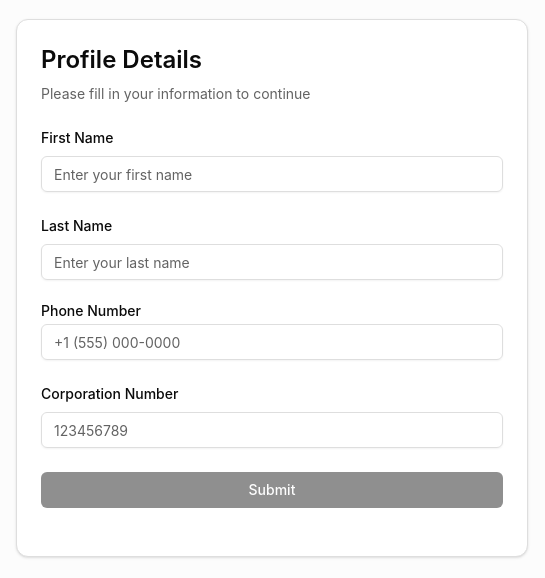
Test: Input Interaction Issues › Phone number error messages › should show 'Required' when empty and blurred
This screenshot has width=545, height=578.
# Click and blur without entering anything
Click the field labelled "Phone Number" at (272, 342), box [41,324,503,360]
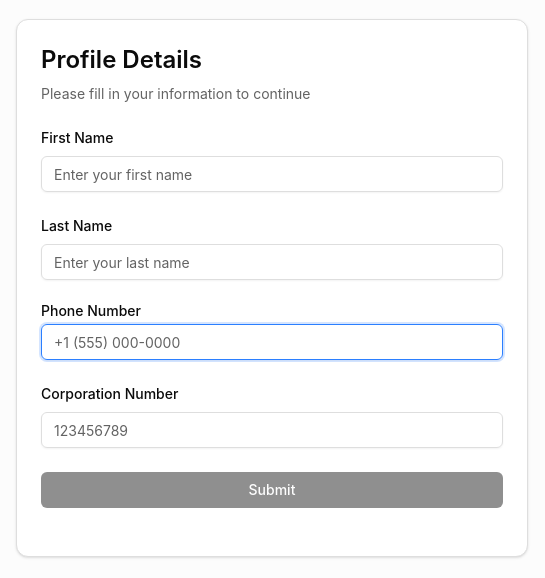
Press Tab
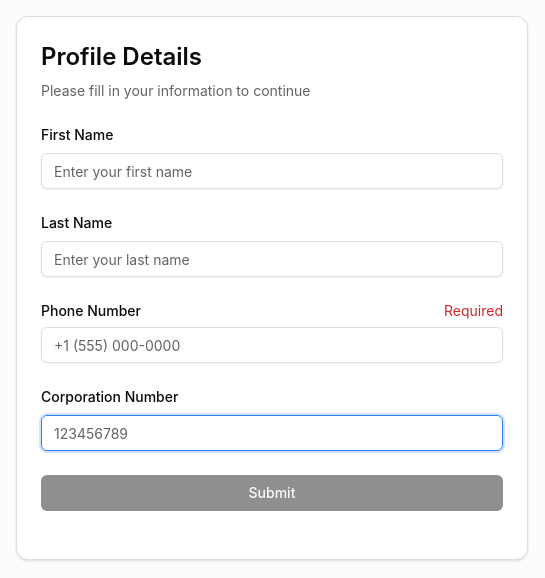
Result: the text "Required" is shown at [444,301,503,321]
